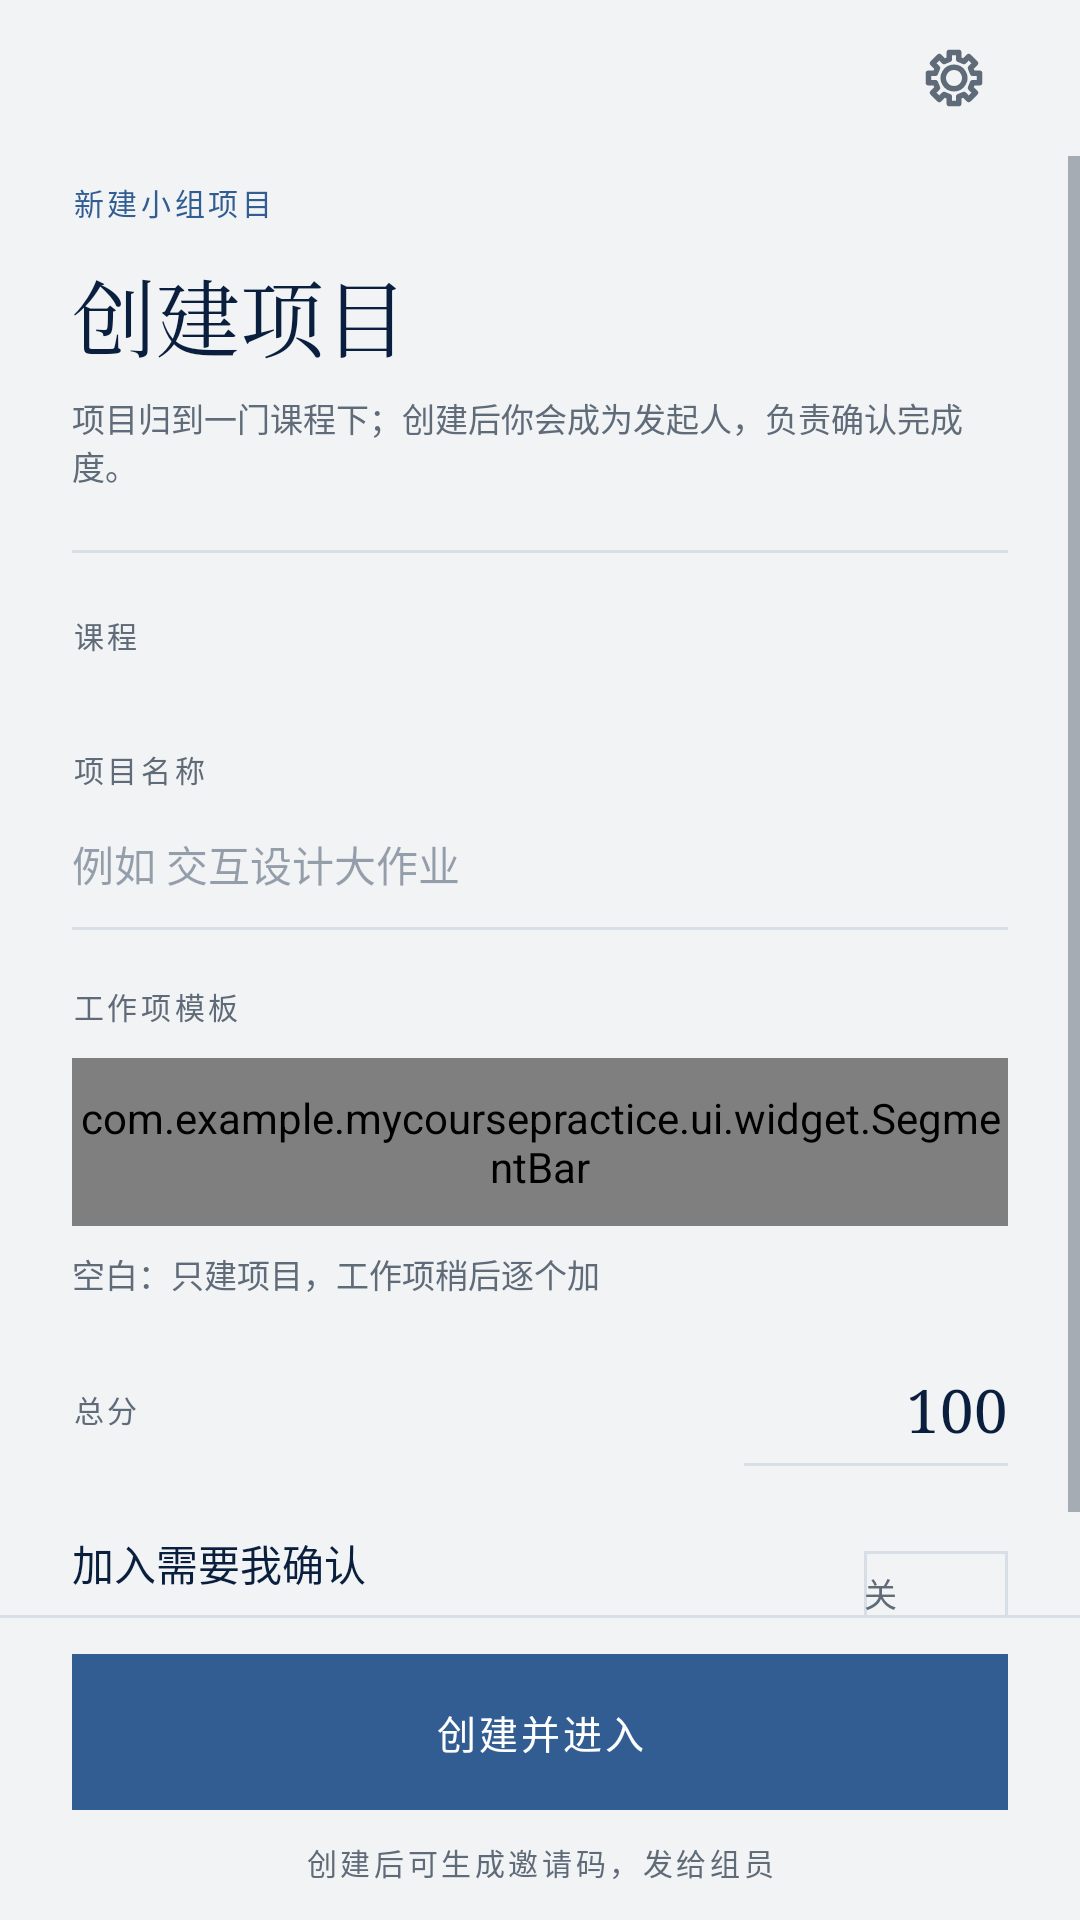

Screen size 1080 × 1920. Icon name, then its box in pixels as (x1, y1, x2, y2):
设置: (925, 49, 983, 107)
